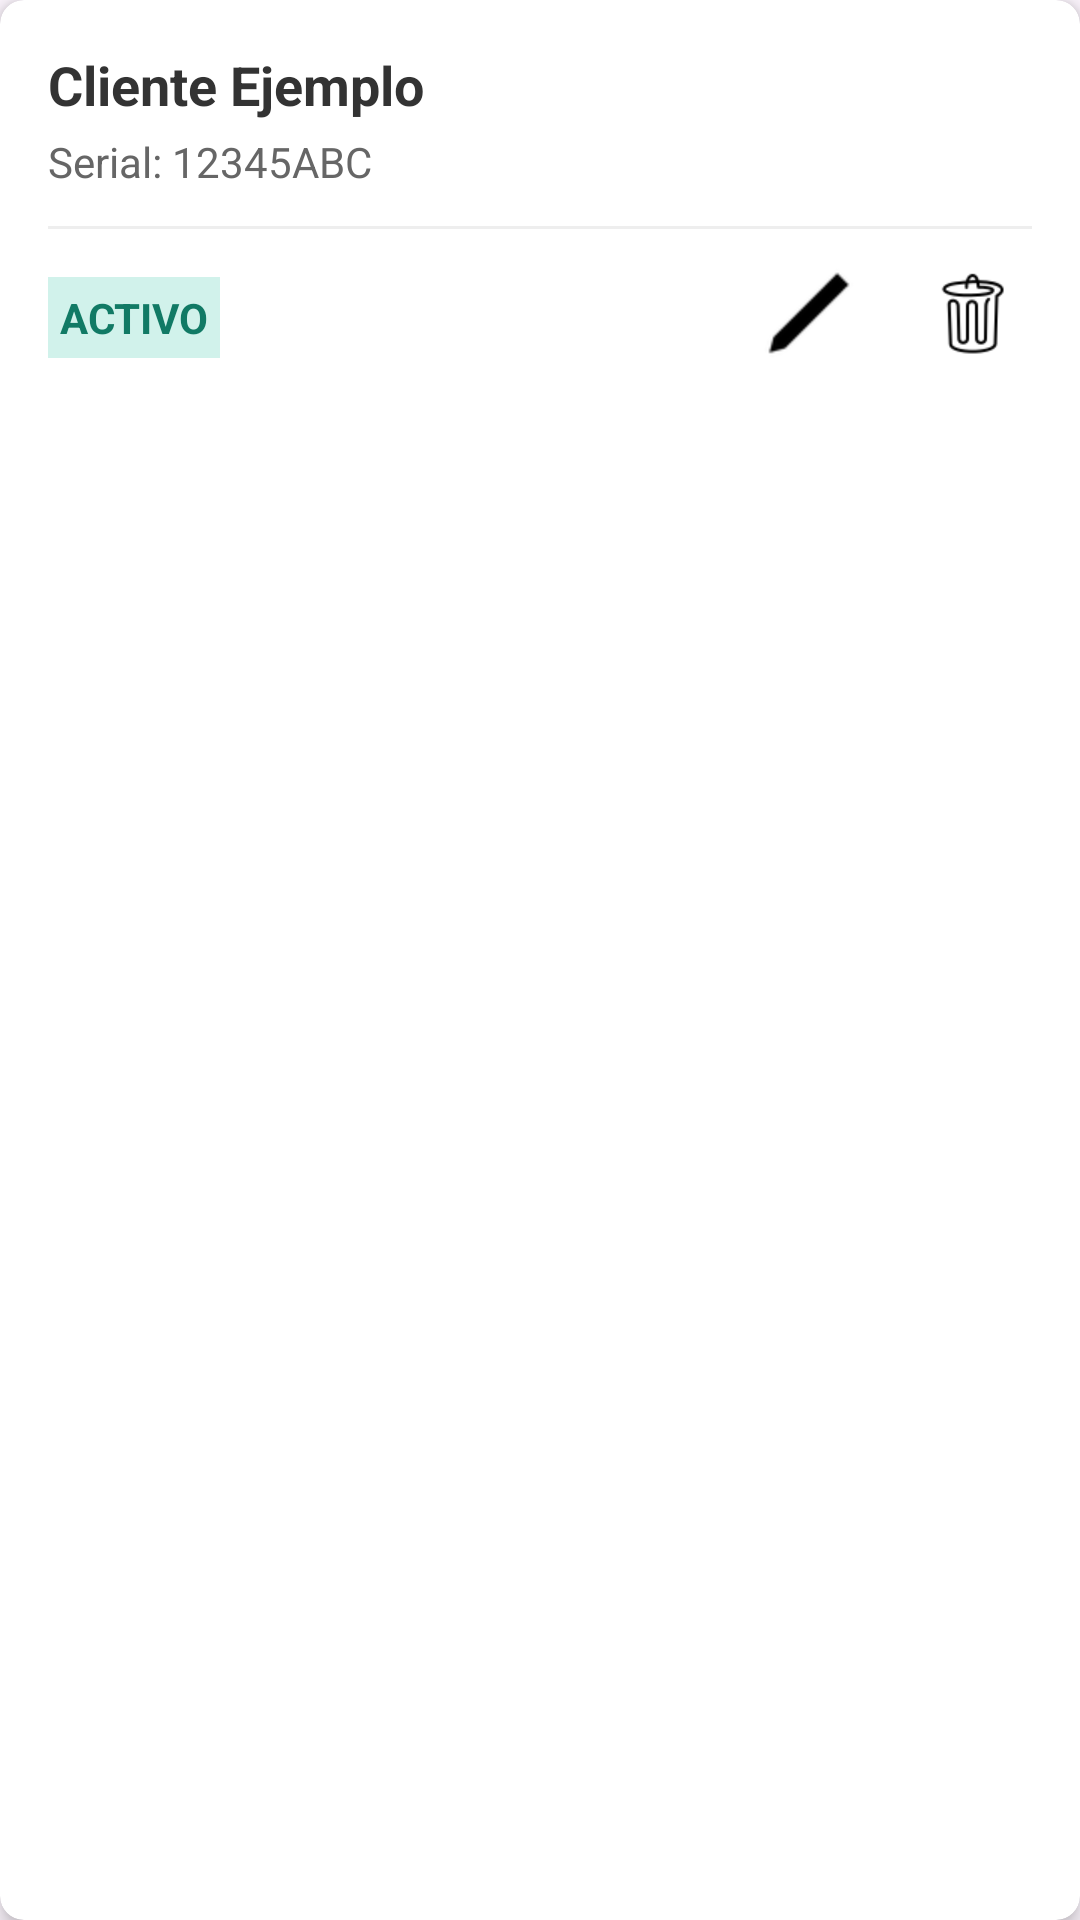

Screen size 1080 × 1920. Icon name, then its center in pixels as (x,y):
Editar: (808,313)
Eliminar: (973,313)
